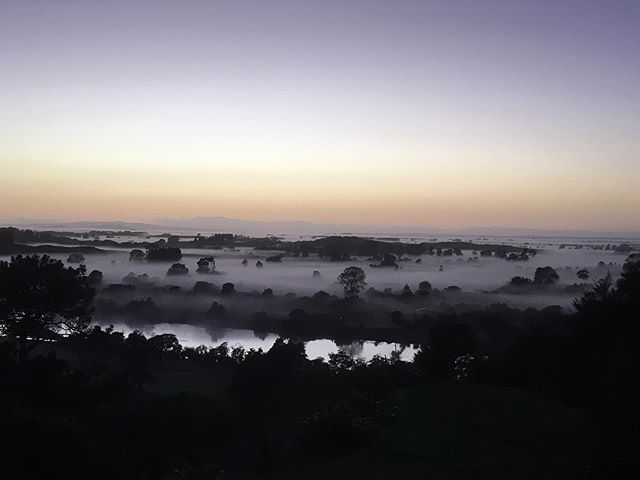soldier: (1, 1, 640, 206)
tree: (1, 252, 97, 363)
